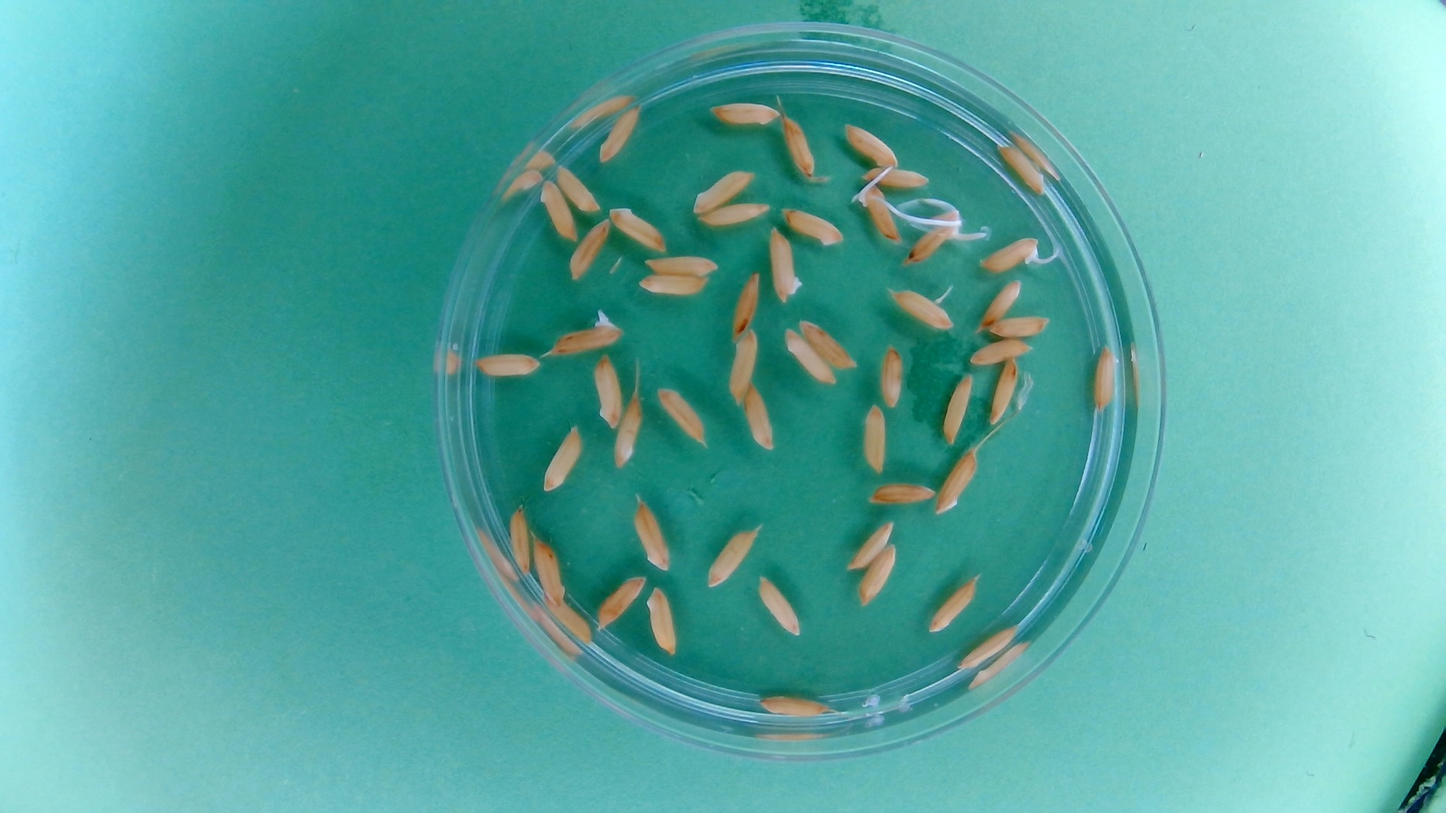no: (796, 315, 859, 370), (781, 327, 837, 388), (654, 383, 707, 447), (706, 525, 758, 589), (926, 574, 980, 635), (932, 447, 979, 517), (539, 423, 584, 495), (631, 495, 673, 572), (594, 572, 647, 633), (607, 202, 668, 254), (956, 622, 1020, 671), (690, 166, 755, 214), (596, 102, 644, 166), (567, 215, 612, 282), (755, 573, 802, 637), (994, 142, 1048, 197), (856, 539, 899, 607), (842, 120, 901, 169), (541, 591, 593, 646), (767, 226, 804, 303), (780, 206, 846, 248), (536, 176, 578, 242), (844, 517, 895, 571), (644, 584, 681, 658), (725, 328, 760, 406), (530, 535, 569, 604), (940, 371, 975, 447), (779, 113, 818, 181), (590, 352, 624, 430), (554, 160, 602, 215), (610, 395, 645, 470), (976, 276, 1023, 330), (728, 269, 762, 341), (741, 383, 776, 452), (694, 197, 769, 229), (706, 98, 781, 130), (987, 358, 1021, 427), (1090, 342, 1122, 415), (894, 290, 951, 329), (471, 349, 542, 379), (859, 403, 888, 475), (865, 479, 938, 507), (505, 504, 533, 576), (642, 252, 719, 278), (967, 336, 1033, 366), (758, 693, 831, 720), (877, 343, 906, 410), (636, 272, 710, 298), (985, 312, 1053, 340), (860, 164, 932, 190)
yes: (548, 315, 624, 358), (855, 184, 903, 245), (906, 215, 962, 265), (979, 235, 1042, 274)
